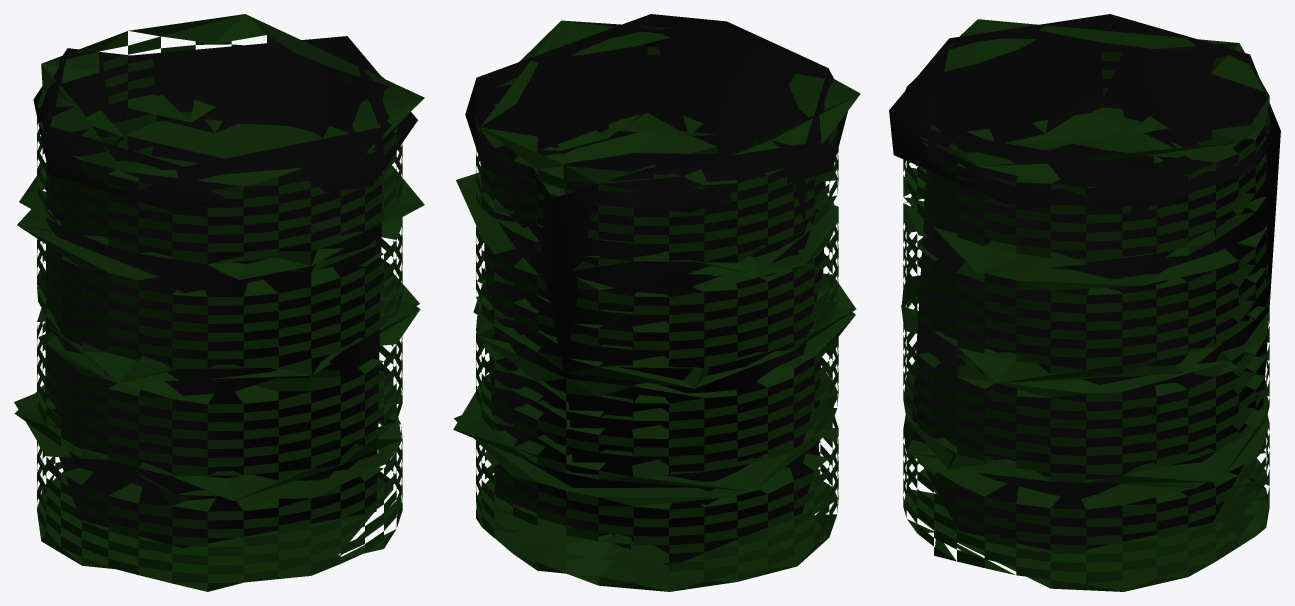
The model's file is Metal Trashcan - Public.glb.
The picture shows the model from 3 angles, left to right: view 1: azimuth 30°, elevation 25°; view 2: azimuth 150°, elevation 25°; view 3: azimuth 270°, elevation 25°; orthographic projection.
Visible parts, largest first — view 1: Can; view 2: Can; view 3: Can.
Part boxes in pixels (x1=…): Can: x1=14, y1=14, x2=424, y2=591; Can: x1=453, y1=14, x2=860, y2=591; Can: x1=889, y1=14, x2=1280, y2=591.
Size of what is drawn, in the model's own units: 0.8511 by 0.9852 by 0.8216.
